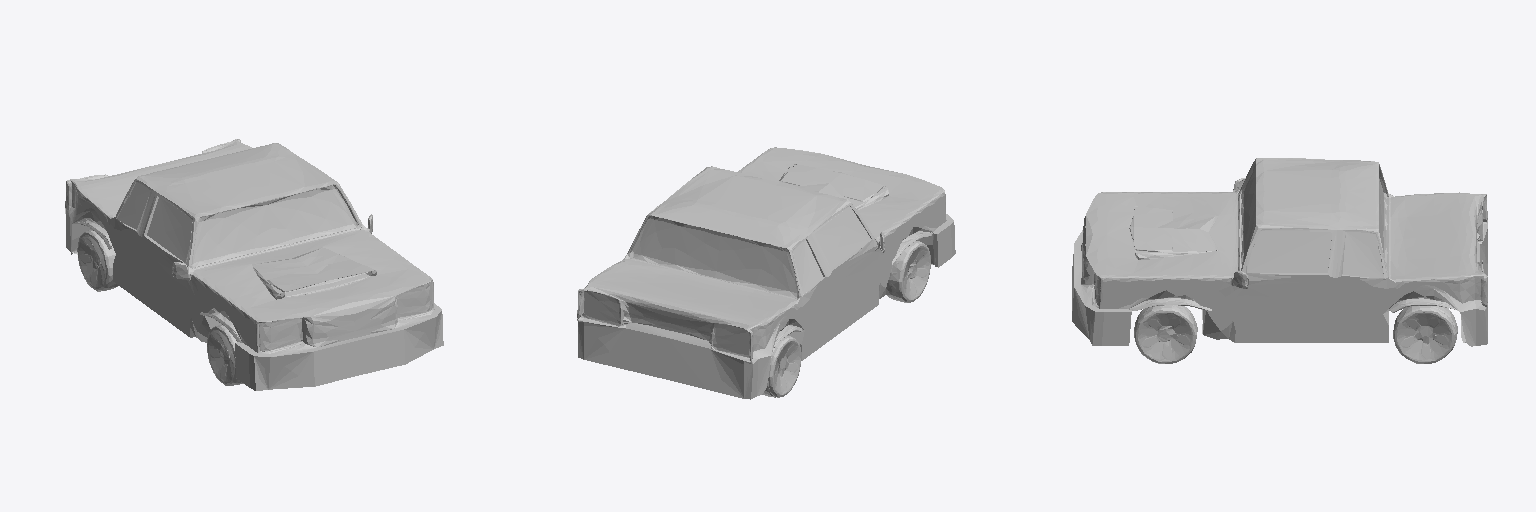
The model's file is autocolor2.obj.
3 renders of one model, left to right at view 1: azimuth 30°, elevation 25°; view 2: azimuth 150°, elevation 25°; view 3: azimuth 270°, elevation 25°, orthographic.
Visible parts, largest first — view 1: Cube; view 2: Cube; view 3: Cube.
Boxes of the visible parts, box(x1,y1,x2,y2) form: Cube: box(65, 139, 443, 390); Cube: box(577, 147, 955, 399); Cube: box(1072, 158, 1487, 363).
Bounding box in the file's own units: 4.59 × 2.87 × 8.32.